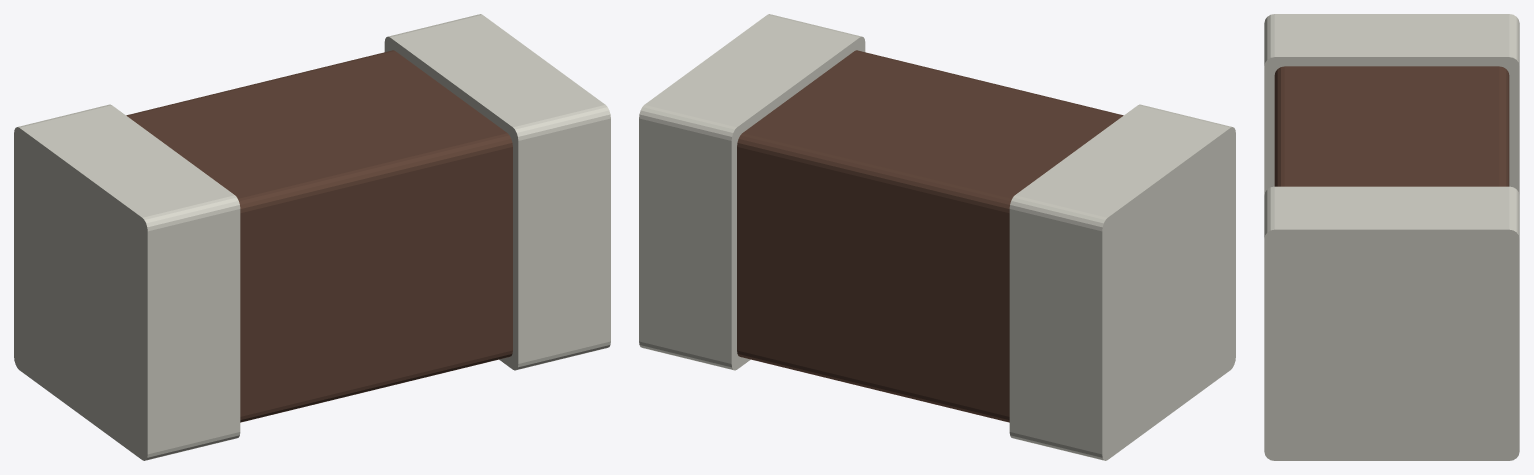
File: C_0402_1005Metric.glb
3 views of the same model, side by side, from view 1: azimuth 30°, elevation 25°; view 2: azimuth 150°, elevation 25°; view 3: azimuth 270°, elevation 25° (orthographic). The views are drawn at different scales.
Visible parts, largest first — view 1: C_0402_1005Metric_1c68a0, C_0402_1005Metric_9632b5; view 2: C_0402_1005Metric_1c68a0, C_0402_1005Metric_9632b5; view 3: C_0402_1005Metric_1c68a0, C_0402_1005Metric_9632b5.
Part boxes in pixels (x1,y1,x2,y2): C_0402_1005Metric_1c68a0: [14, 14, 610, 460]; C_0402_1005Metric_9632b5: [126, 50, 512, 422]; C_0402_1005Metric_1c68a0: [639, 14, 1235, 460]; C_0402_1005Metric_9632b5: [737, 50, 1123, 422]; C_0402_1005Metric_1c68a0: [1264, 14, 1519, 460]; C_0402_1005Metric_9632b5: [1274, 66, 1509, 186].
Size of the model in its own units: 0.001 by 0.0005 by 0.0005.
